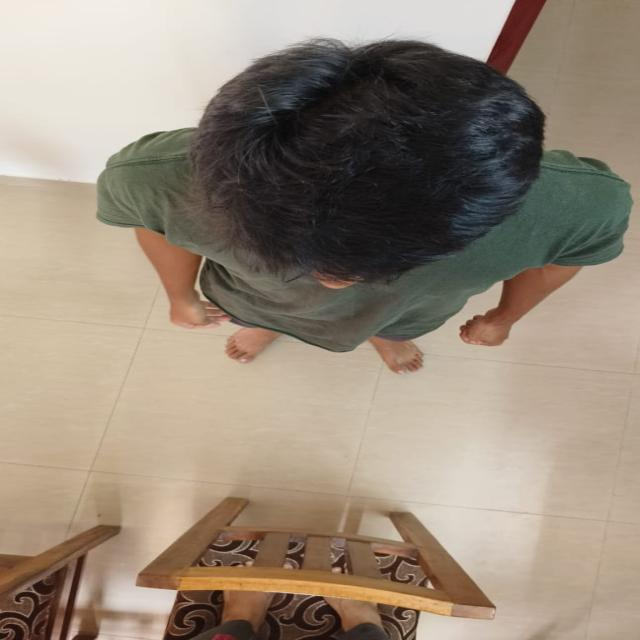humans: (42, 32, 640, 399)
